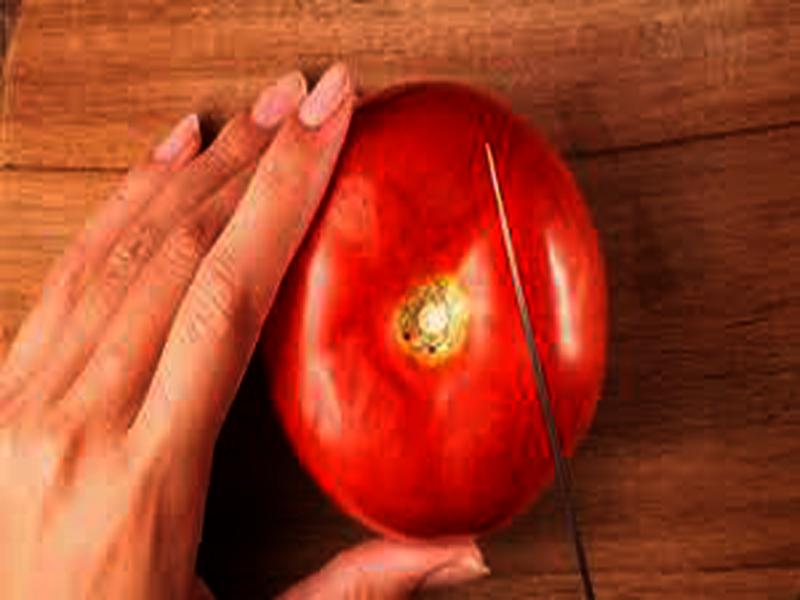Tomato: (259, 86, 600, 536)
